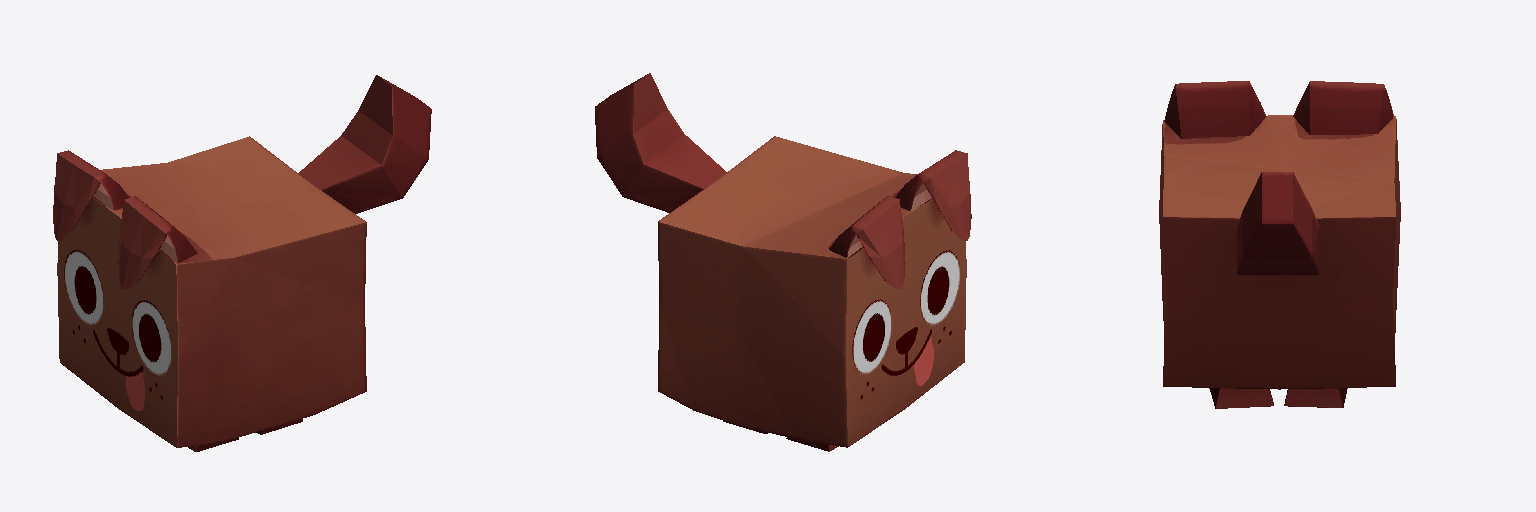
The picture shows the model from 3 angles: view 1: azimuth 30°, elevation 25°; view 2: azimuth 150°, elevation 25°; view 3: azimuth 270°, elevation 25°; orthographic projection.
Parts seen in each view (by area): view 1: Dog1; view 2: Dog1; view 3: Dog1.
Boxes of the visible parts, x1,y1,x2,y2 form: Dog1: [53, 75, 431, 451]; Dog1: [595, 73, 971, 451]; Dog1: [1159, 81, 1400, 408].
Bounding box in the file's own units: 3.18 × 2.66 × 2.
Materials: 1 (1 with a texture image).